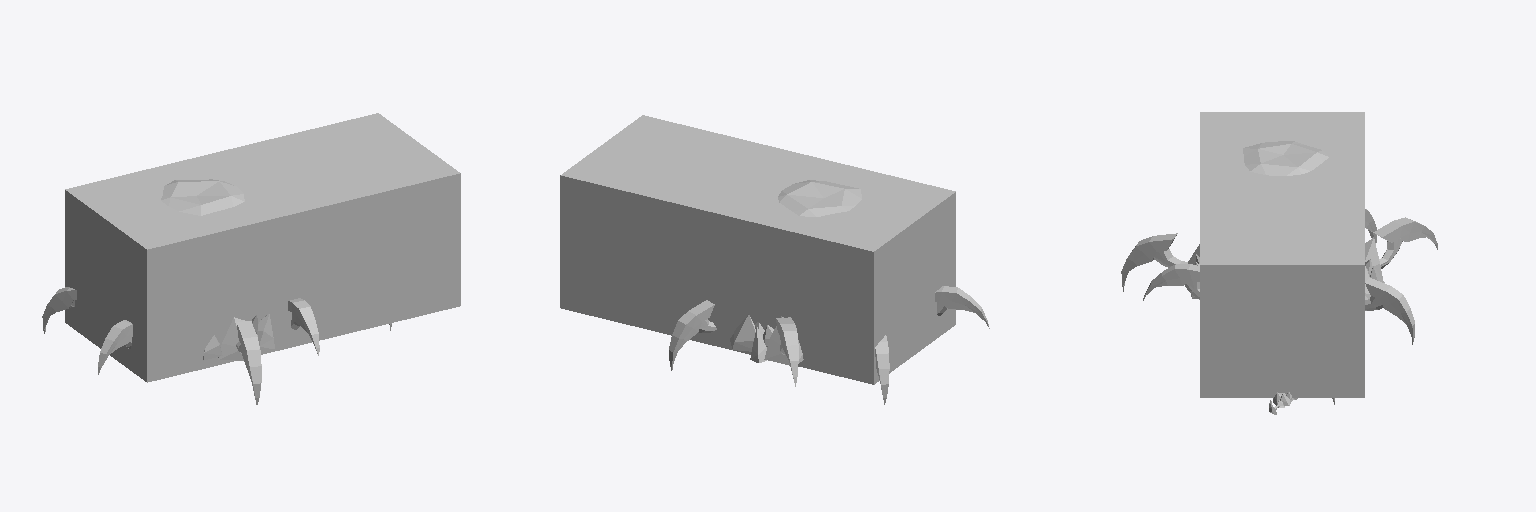
The model's file is fire enemy_000010.obj.
3 renders of one model, left to right at view 1: azimuth 30°, elevation 25°; view 2: azimuth 150°, elevation 25°; view 3: azimuth 270°, elevation 25°, orthographic.
Parts seen in each view (by area): view 1: Cube, legs_Plane.006, head_Cylinder.078, body_Cylinder; view 2: Cube, legs_Plane.006, head_Cylinder.078, body_Cylinder; view 3: Cube, legs_Plane.006, head_Cylinder.078, body_Cylinder.
Boxes of the visible parts, <box> form: Cube: <box>65,113,460,382</box>; legs_Plane.006: <box>42,287,391,404</box>; head_Cylinder.078: <box>161,179,244,215</box>; body_Cylinder: <box>203,314,274,360</box>; Cube: <box>560,115,955,384</box>; legs_Plane.006: <box>669,286,989,404</box>; head_Cylinder.078: <box>778,180,861,216</box>; body_Cylinder: <box>730,314,803,365</box>; Cube: <box>1200,112,1364,397</box>; legs_Plane.006: <box>1121,209,1437,414</box>; head_Cylinder.078: <box>1243,141,1328,175</box>; body_Cylinder: <box>1188,237,1384,407</box>.
Bounding box in the file's own units: 17.23 × 6.54 × 12.45.